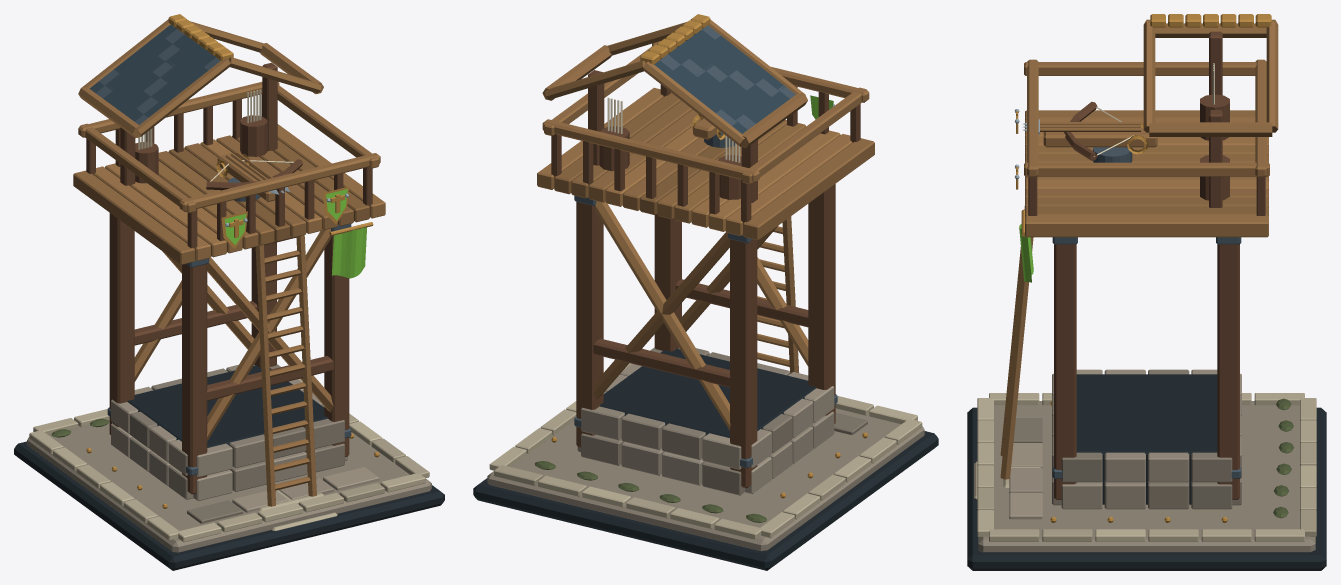
The model's file is archer__patrulheira__L15.glb.
3 views of the same model, side by side, from view 1: azimuth 30°, elevation 25°; view 2: azimuth 150°, elevation 25°; view 3: azimuth 270°, elevation 25° (orthographic). The views are drawn at different scales.
Visible parts, largest first — view 1: structure, weapon, banners; view 2: structure, weapon; view 3: structure, weapon, banners.
Part boxes in pixels (box(x1,y1,x2,y2)): structure: box(14, 14, 444, 570); weapon: box(206, 152, 302, 201); banners: box(329, 222, 373, 278); structure: box(473, 14, 938, 570); weapon: box(692, 114, 734, 147); structure: box(967, 14, 1326, 570); weapon: box(1023, 101, 1157, 162); banners: box(1019, 209, 1033, 282).
Bounding box in the file's own units: 0.803 × 1.19 × 0.803.
